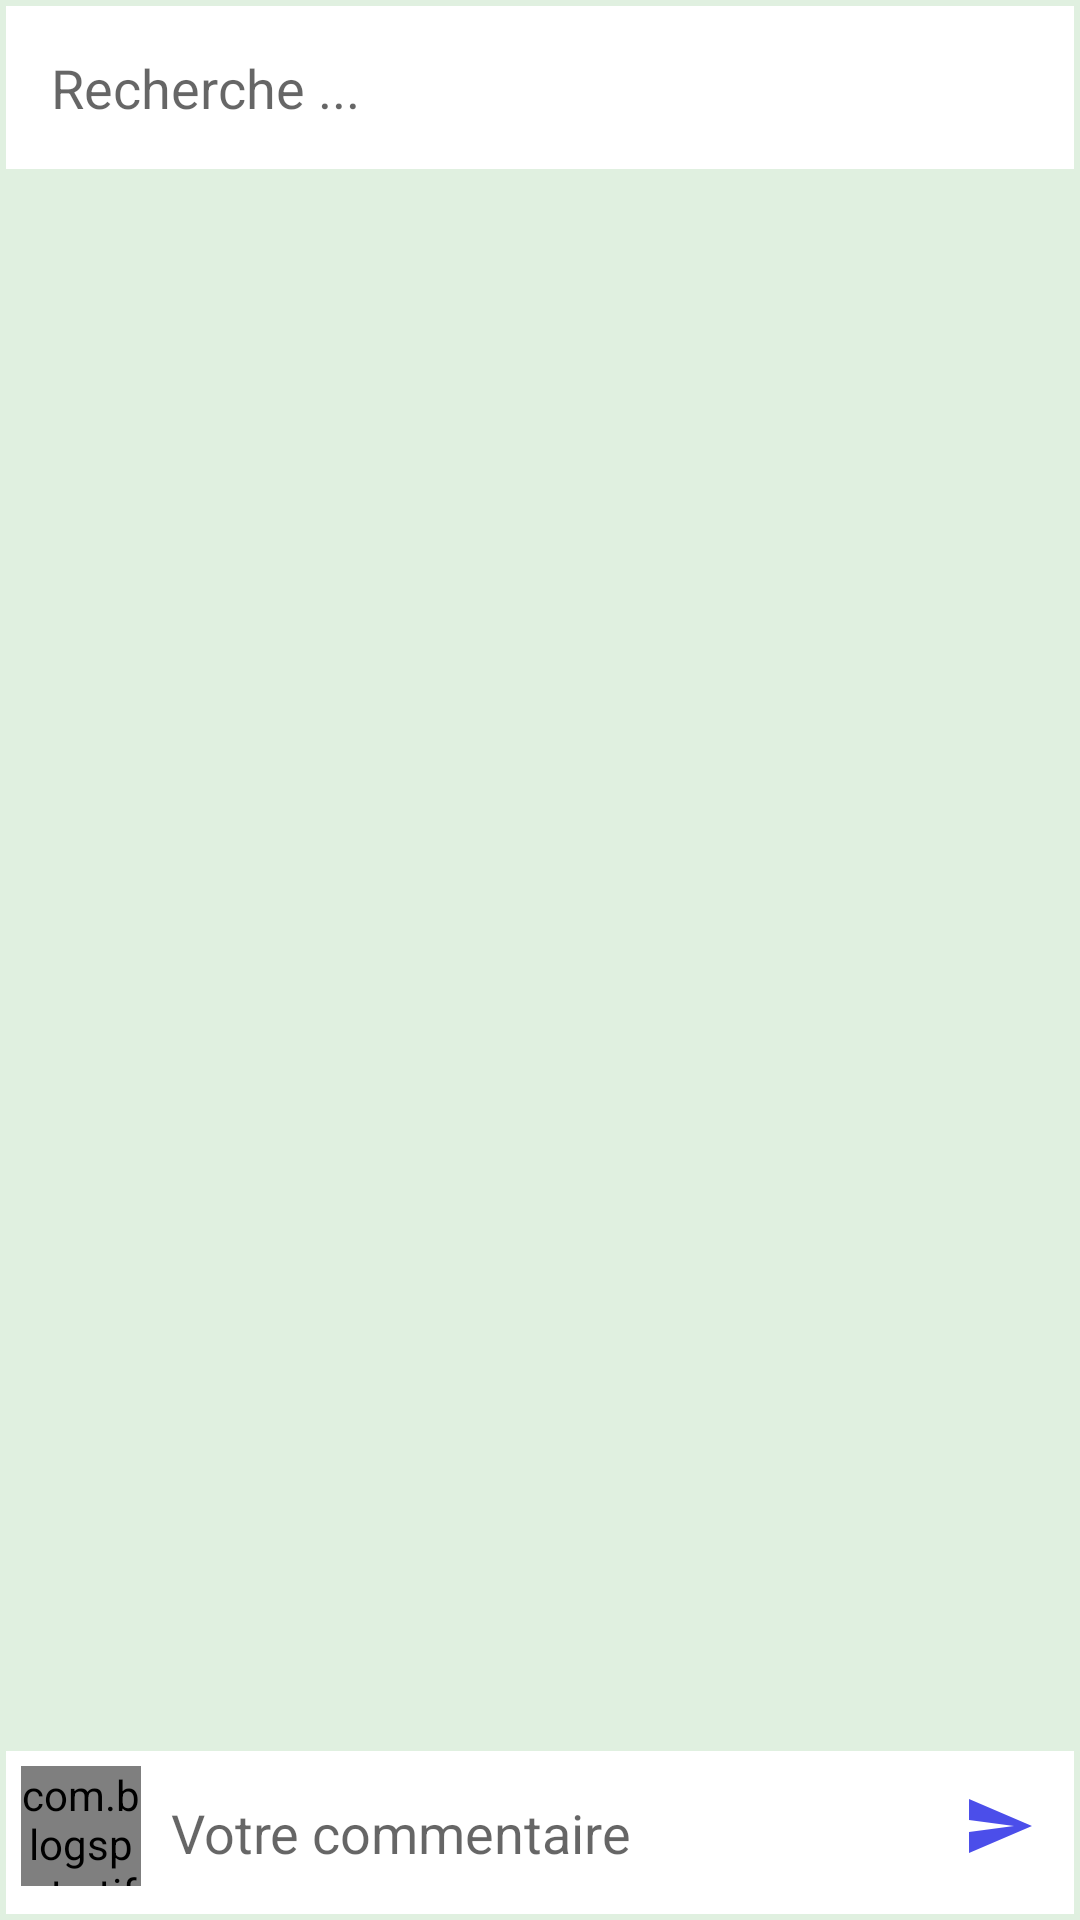

Icons on this 1080x1920 Android screen, each with the point to tap as [x,y]:
send: [1000,1826]
